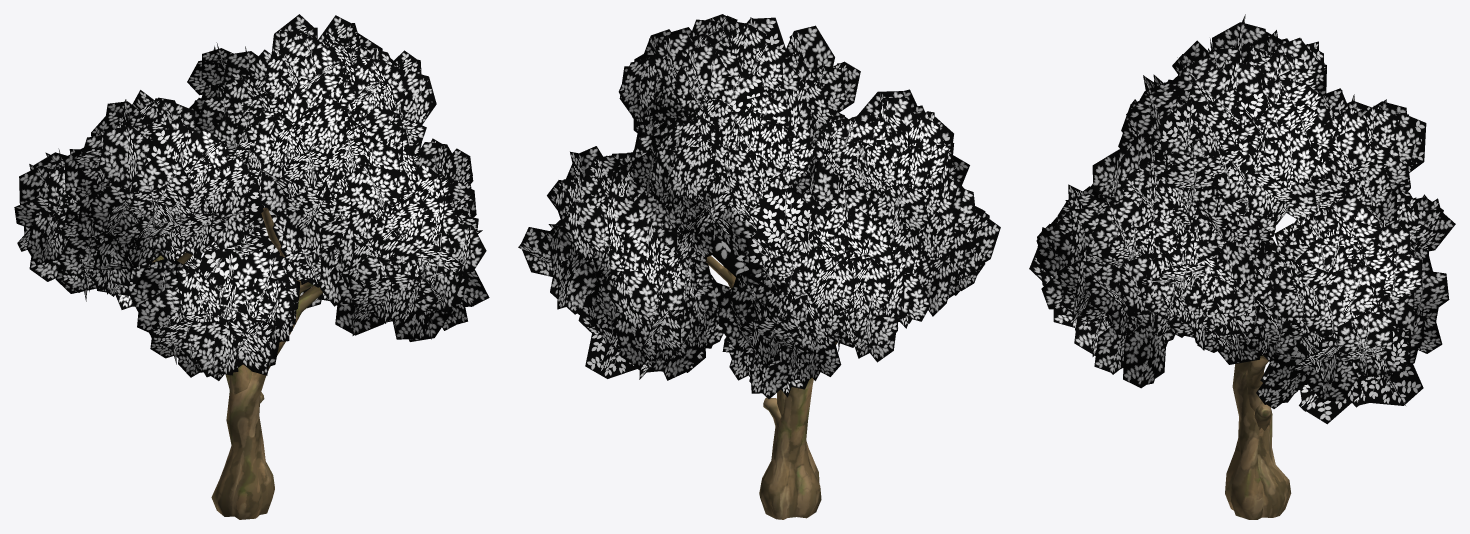
Rendered from P_OakTreeLarge1.obj.
3 views of the same model, side by side, from view 1: azimuth 30°, elevation 25°; view 2: azimuth 150°, elevation 25°; view 3: azimuth 270°, elevation 25° (orthographic). The views are drawn at different scales.
Bounding box in the file's own units: 29.39 × 32.97 × 26.87.
